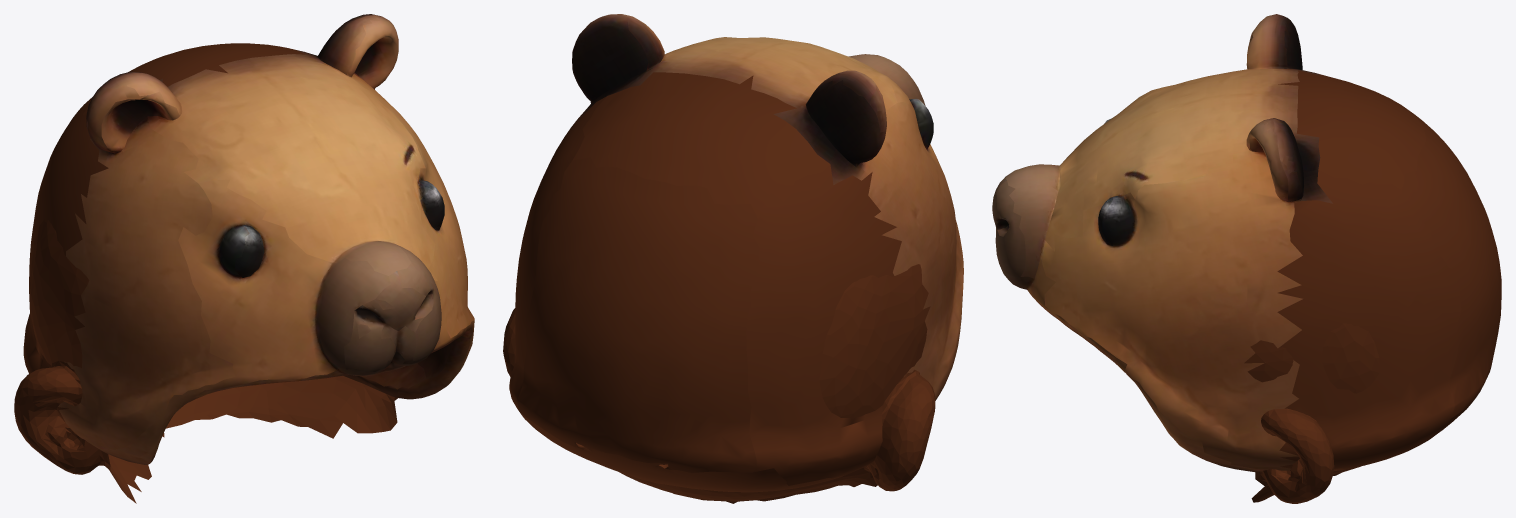
File: capybara.glb
3 views of the same model, side by side, from view 1: azimuth 30°, elevation 25°; view 2: azimuth 150°, elevation 25°; view 3: azimuth 270°, elevation 25° (orthographic). The views are drawn at different scales.
Visible parts, largest first — view 1: geometry_0, HoodAnatomicalLining; view 2: geometry_0, HoodAnatomicalLining; view 3: geometry_0, HoodAnatomicalLining.
Boxes of the visible parts, x1,y1,x2,y2 form: geometry_0: (23,14,474,464); HoodAnatomicalLining: (14,219,397,503); geometry_0: (509,14,963,492); HoodAnatomicalLining: (503,264,935,503); geometry_0: (992,14,1501,471); HoodAnatomicalLining: (1244,323,1379,503).
Size of the model in its own units: 0.515 by 0.4941 by 0.5945.
2 materials, 1 textured.
